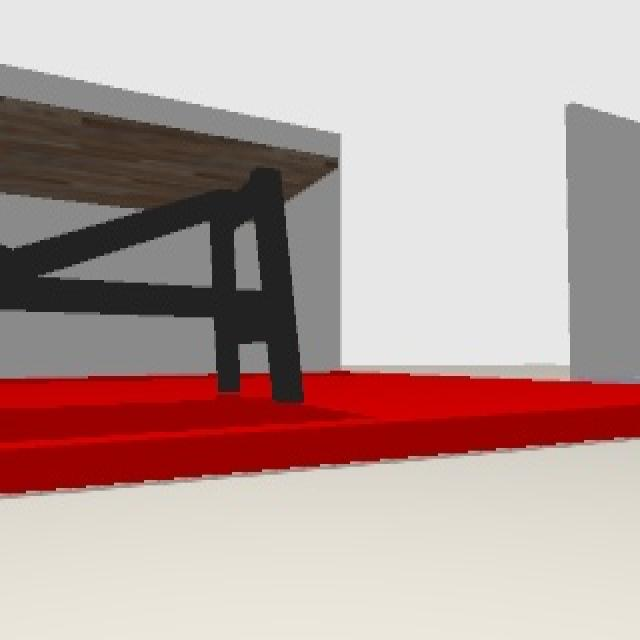dining: (2, 98, 340, 402)
